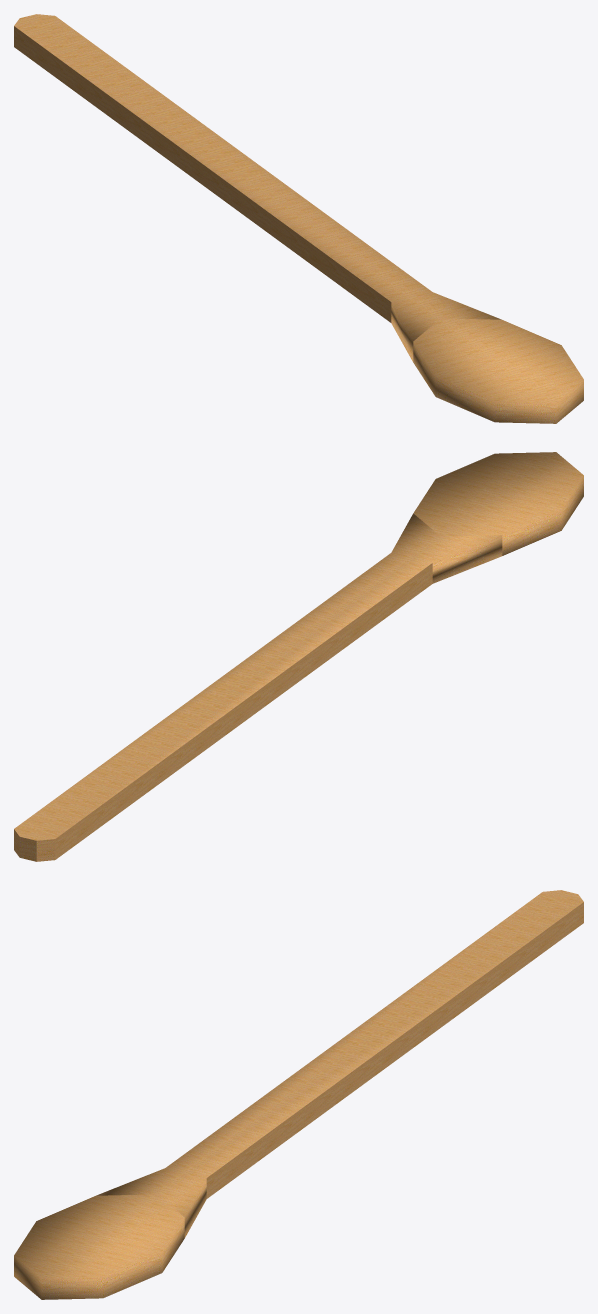
The model's file is spoon_09_origin.dae.
3 views of the same model, one above another, from view 1: azimuth 30°, elevation 25°; view 2: azimuth 150°, elevation 25°; view 3: azimuth 330°, elevation 25° (orthographic).
Parts seen in each view (by area): view 1: group_0; view 2: group_0; view 3: group_0.
Boxes of the visible parts, bbox=[...] form: group_0: bbox=[14, 14, 583, 423]; group_0: bbox=[14, 452, 583, 861]; group_0: bbox=[14, 890, 583, 1299].
Bounding box in the file's own units: 1.54 × 11.19 × 0.2467.
Materials: 1 (1 with a texture image).
